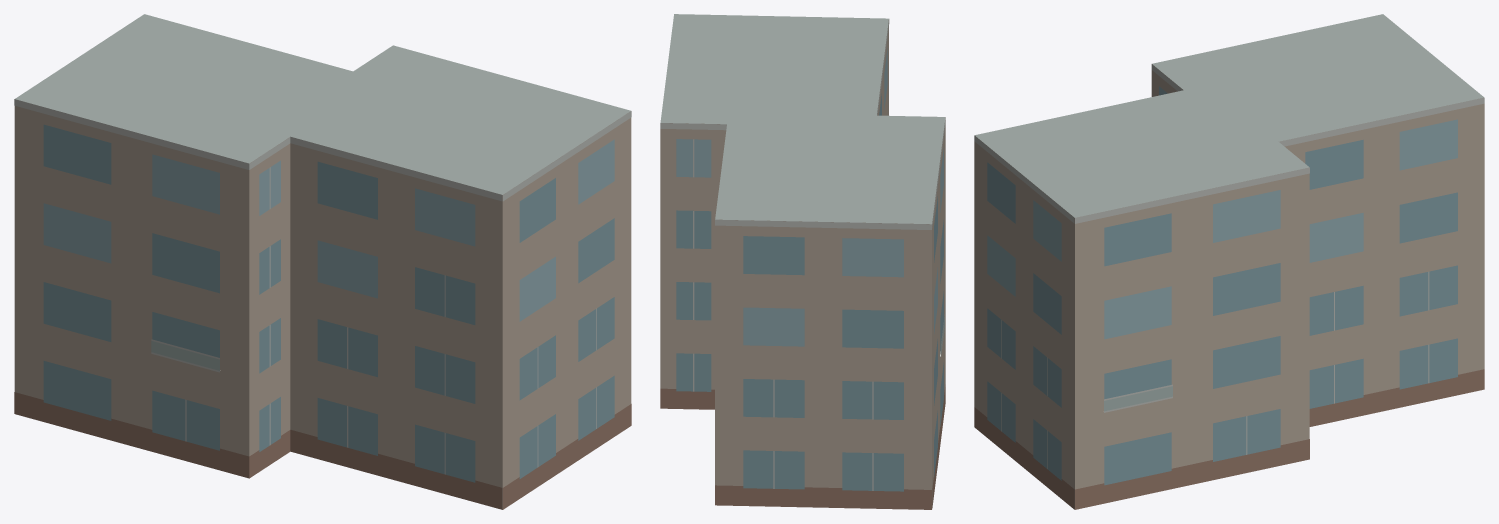
The model's file is survey-upis-32927328.glb.
3 renders of one model, left to right at view 1: azimuth 30°, elevation 25°; view 2: azimuth 150°, elevation 25°; view 3: azimuth 270°, elevation 25°, orthographic. The views are drawn at different scales.
Visible parts, largest first — view 1: survey-upis-32927328.tmp; view 2: survey-upis-32927328.tmp; view 3: survey-upis-32927328.tmp.
Boxes of the visible parts, box(x1,y1,x2,y2) form: survey-upis-32927328.tmp: box(14, 14, 631, 509); survey-upis-32927328.tmp: box(660, 14, 945, 509); survey-upis-32927328.tmp: box(974, 14, 1484, 509).
Bounding box in the file's own units: 17.53 × 11.7 × 18.53.
